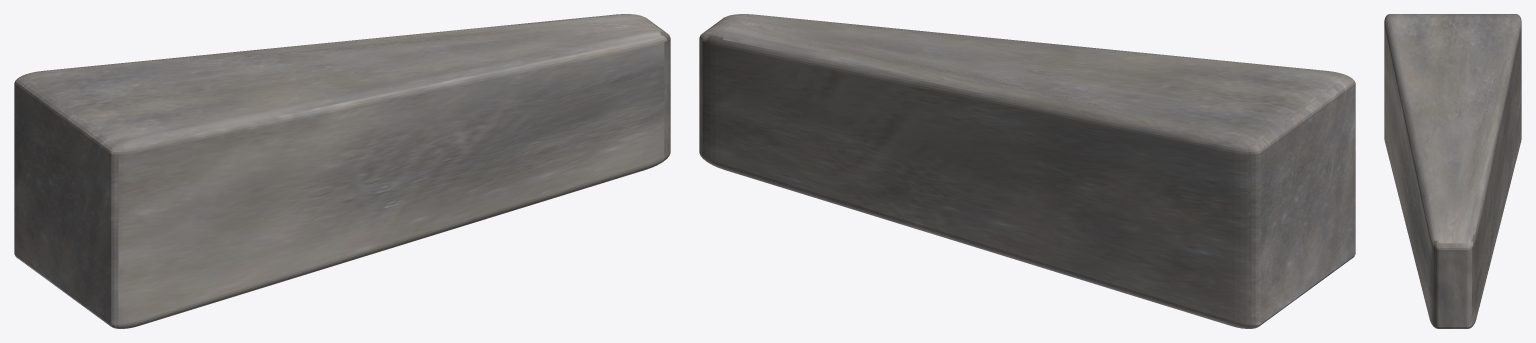
File: paddleLeft.obj
3 views of the same model, side by side, from view 1: azimuth 30°, elevation 25°; view 2: azimuth 150°, elevation 25°; view 3: azimuth 270°, elevation 25° (orthographic). The views are drawn at different scales.
Visible parts, largest first — view 1: Cube; view 2: Cube; view 3: Cube.
Boxes of the visible parts, x1=… form: Cube: x1=14, y1=14, x2=670, y2=328; Cube: x1=699, y1=14, x2=1355, y2=328; Cube: x1=1384, y1=14, x2=1521, y2=328.
Size of the model in its own units: 6.57 by 1.98 by 1.95.
Materials: 1 (1 with a texture image).
